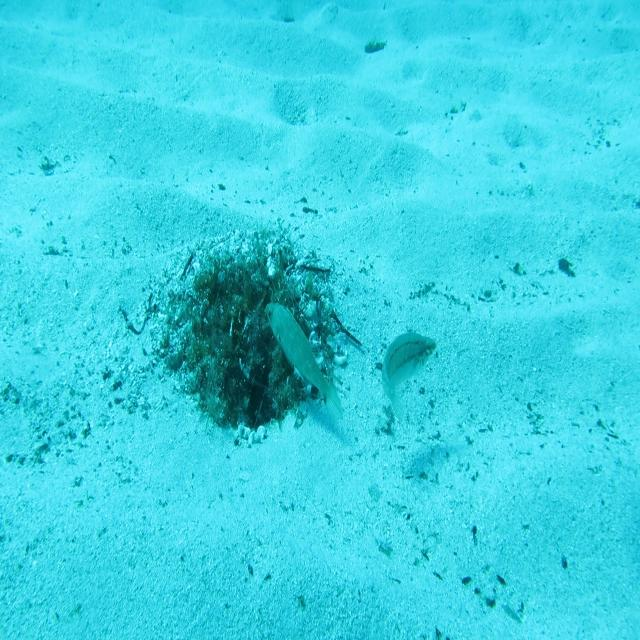BN: (264, 297, 346, 429)
core_nest: (218, 275, 275, 314)
female: (378, 327, 442, 428)
nest: (137, 221, 351, 465)
vegetation: (362, 38, 388, 56)
